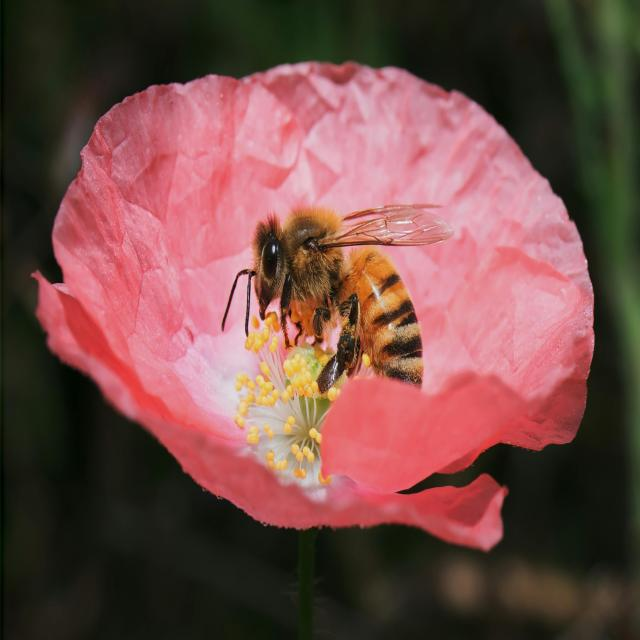bee: (219, 200, 465, 388)
